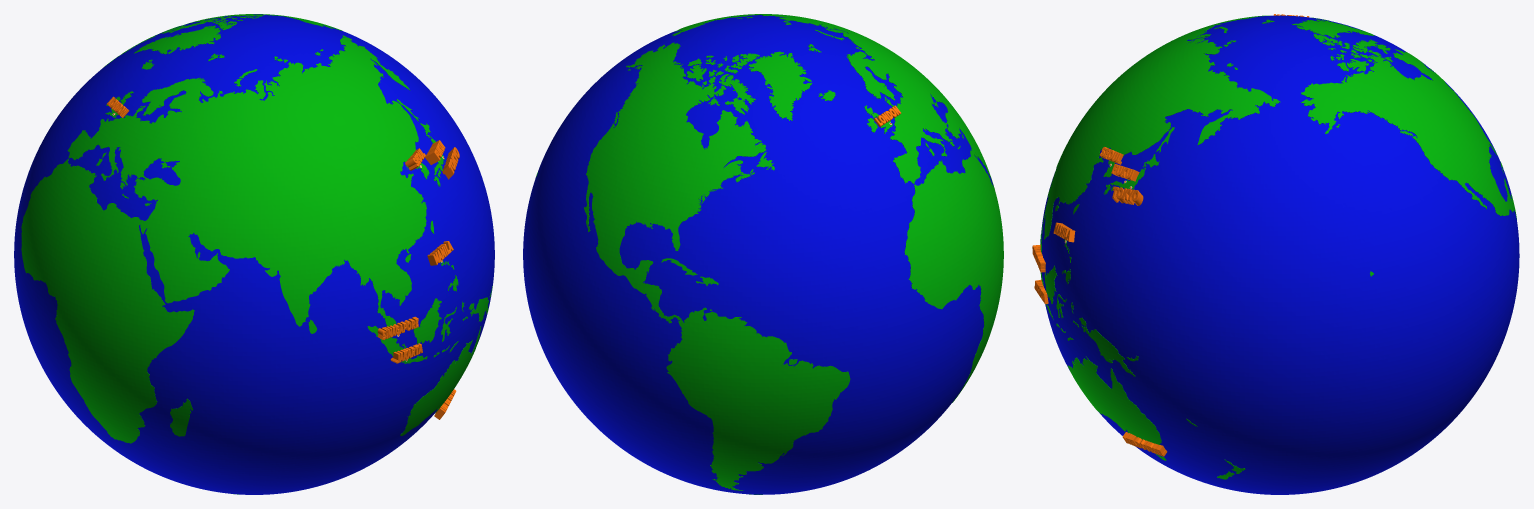
Rendered from globeB.glb.
3 renders of one model, left to right at view 1: azimuth 30°, elevation 25°; view 2: azimuth 150°, elevation 25°; view 3: azimuth 270°, elevation 25°, orthographic.
Visible parts, largest first — view 1: Object_2, Object_20, Object_16, Object_17, Object_12, Object_13; view 2: Object_2, Object_19, Object_20, Object_17, Object_15; view 3: Object_2, Object_20, Object_19, Object_16, Object_14, Object_17.
Boxes of the visible parts, x1,y1,x2,y2 form: Object_2: (14, 14, 494, 494); Object_20: (21, 35, 429, 443); Object_16: (400, 326, 481, 435); Object_17: (134, 25, 220, 54); Object_12: (170, 14, 456, 436); Object_13: (105, 91, 444, 343); Object_2: (523, 15, 993, 494); Object_19: (584, 42, 850, 488); Object_20: (672, 14, 1003, 402); Object_17: (748, 51, 811, 120); Object_15: (719, 74, 755, 114); Object_2: (1040, 15, 1519, 494); Object_20: (1040, 15, 1280, 253); Object_19: (1301, 49, 1516, 219); Object_16: (1068, 356, 1161, 444); Object_14: (1079, 33, 1342, 376); Object_17: (1292, 19, 1374, 37).
Size of the model in its own units: 2 by 2 by 2.03.
